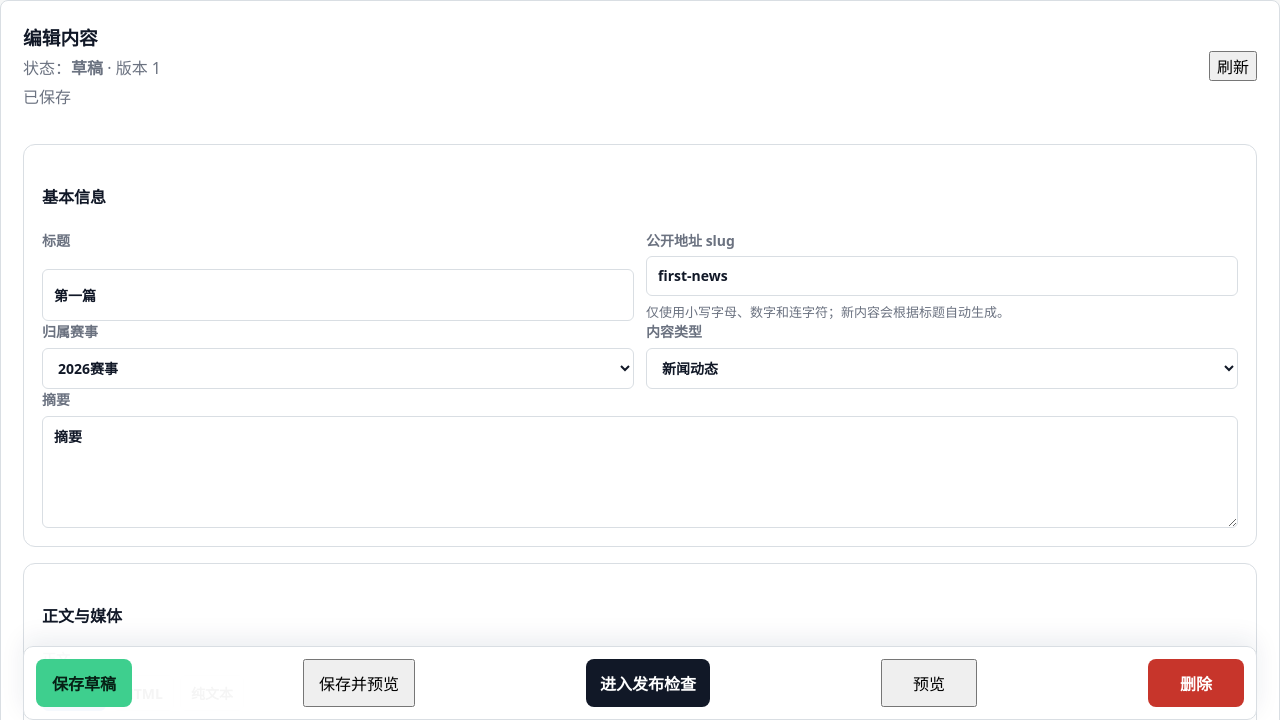
Scenario: ContentEditorPanel › saves the complete draft, reloads it, and previews only server-sanitized HTML
Replace the text in the field labelled "标题" with "管理员修改" at coordinates (338, 294), box top-left (42, 268), bottom-right (634, 320)
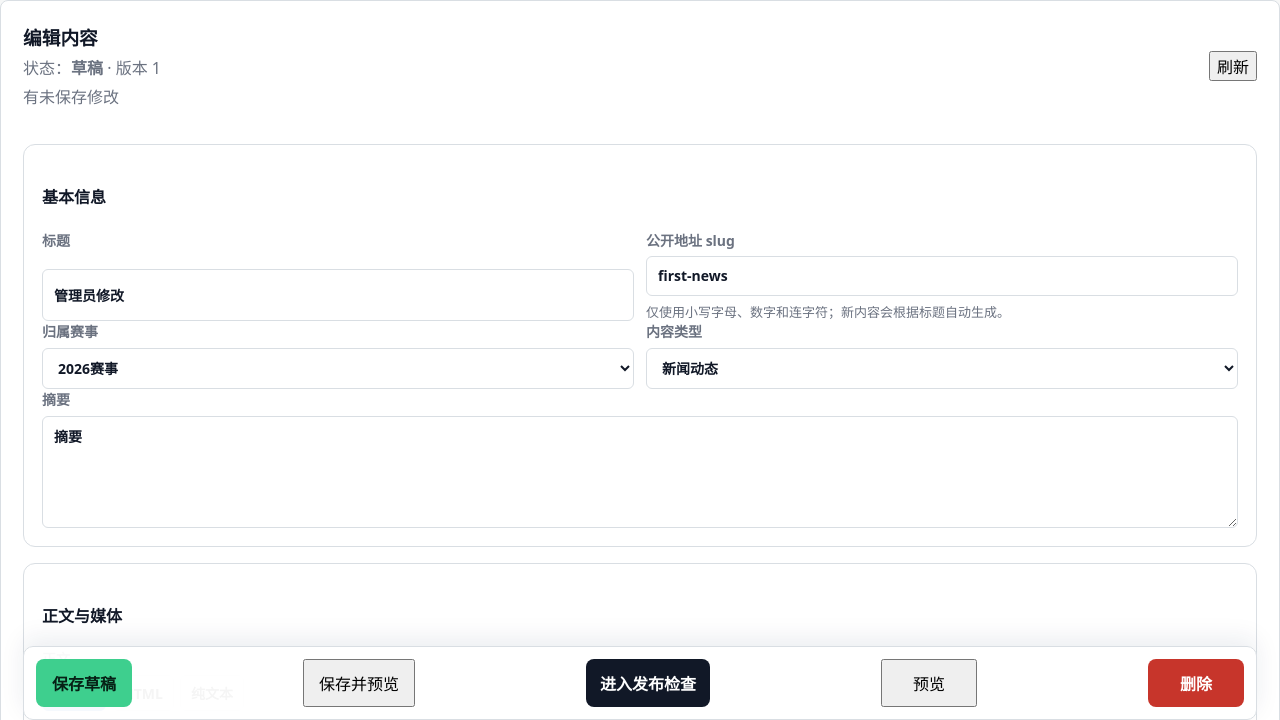
Click the button "保存草稿" at coordinates (84, 683), box top-left (36, 659), bottom-right (132, 707)
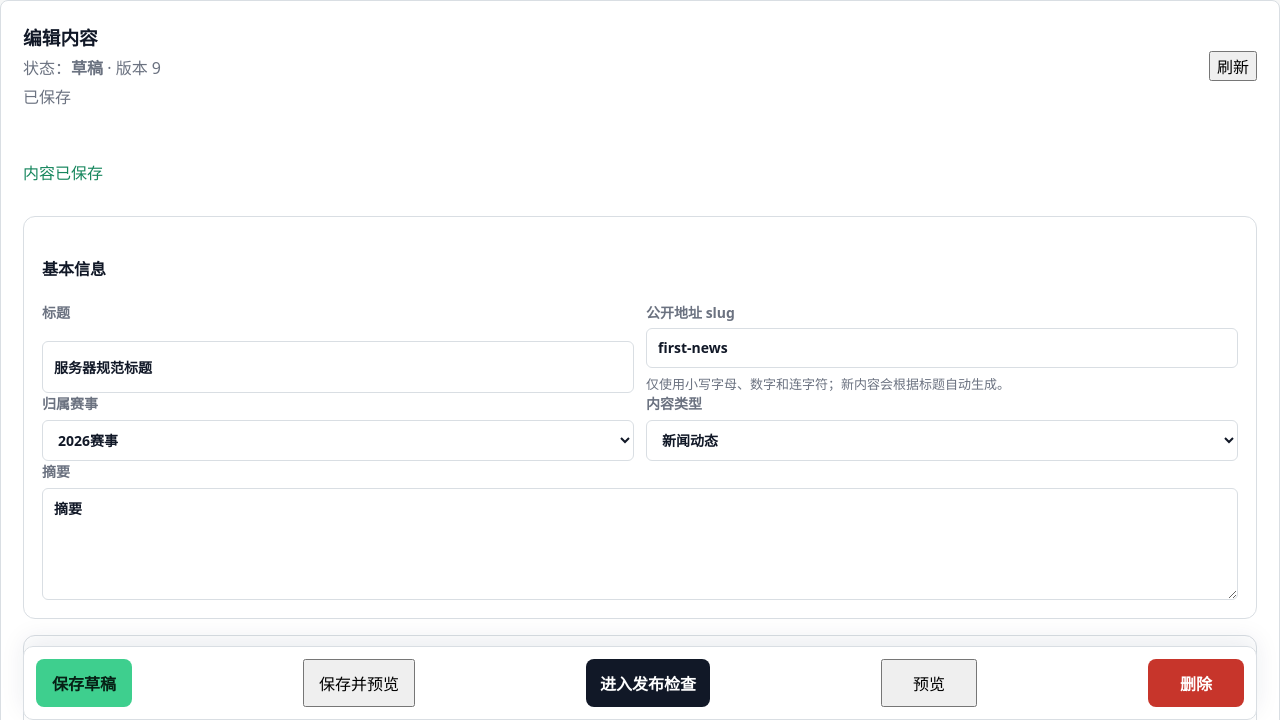
Click the button "刷新" at coordinates (1233, 66), box top-left (1209, 50), bottom-right (1257, 80)
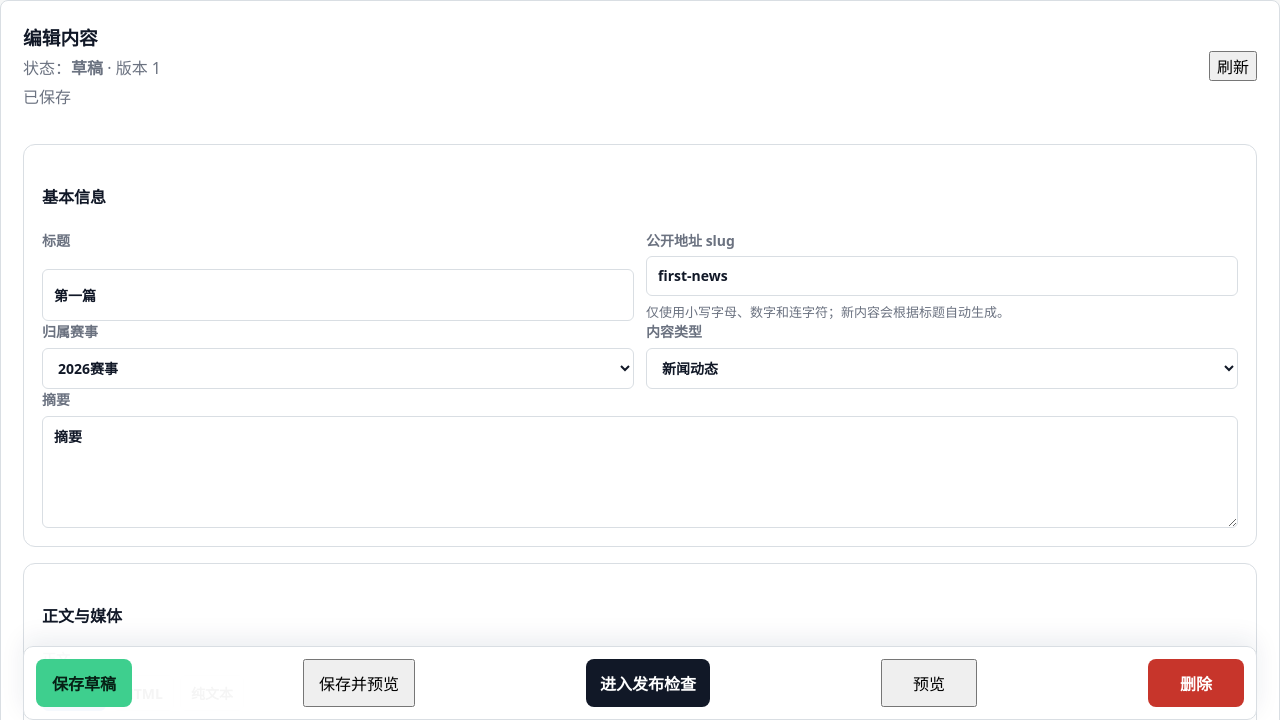
Click the button "预览" at coordinates (929, 683), box top-left (881, 659), bottom-right (977, 707)
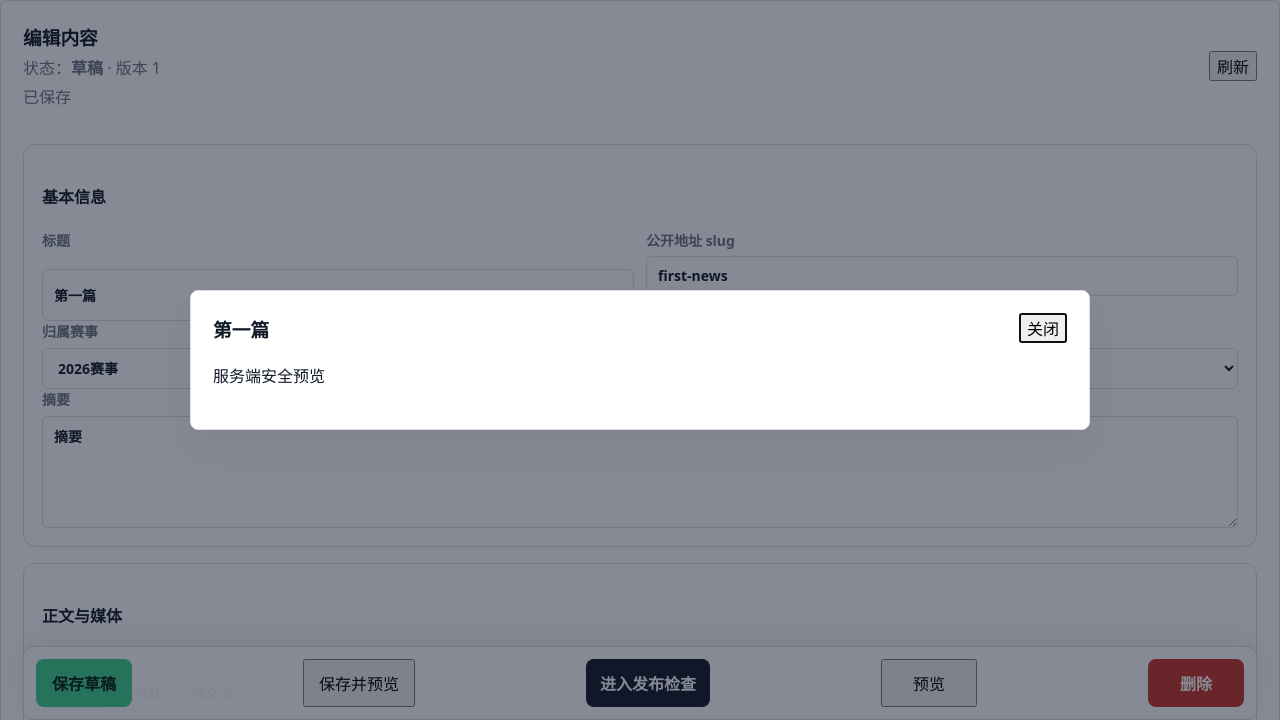
Expected: the element showing "服务端安全预览" is shown, top-left (213, 365), bottom-right (325, 387)
